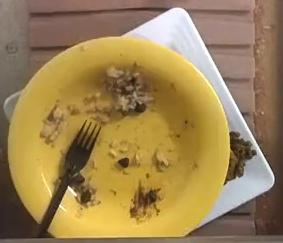rice: (104, 66, 154, 116)
